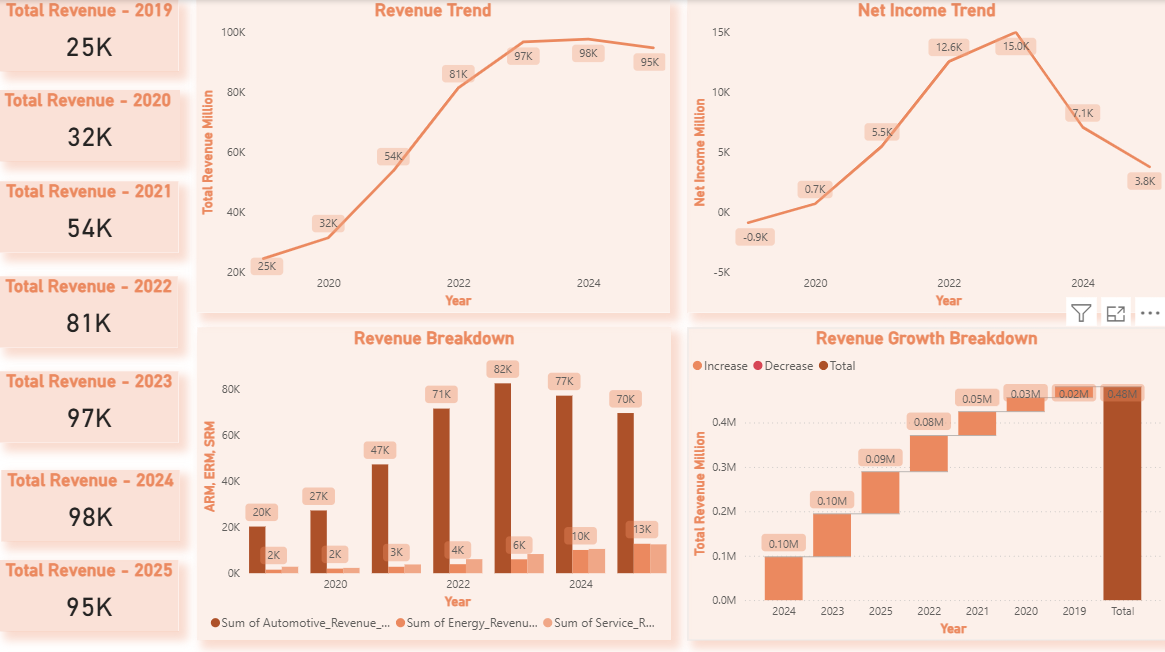

Layout of this report page (visuals, bound fields, positions):
{"tool":"powerbi","page":{"name":"Page 9","canvas":[1280,720],"ordinal":0},"visuals":[{"type":"card","title":"Total Revenue - 2025","fields":{"Values":["Sum(tesla_yearly_data.Total_Revenue_Million)"]},"box":[0,614.8,196.2,78.2],"z":0},{"type":"card","title":"Total Revenue - 2019","fields":{"Values":["Sum(tesla_yearly_data.Total_Revenue_Million)"]},"box":[0,0,196.2,78.2],"z":1000},{"type":"card","title":"Total Revenue - 2020","fields":{"Values":["Sum(tesla_yearly_data.Total_Revenue_Million)"]},"box":[0,98.8,196.2,78.2],"z":2000},{"type":"card","title":"Total Revenue - 2021","fields":{"Values":["Sum(tesla_yearly_data.Total_Revenue_Million)"]},"box":[0,199,196.2,78.2],"z":3000},{"type":"card","title":"Total Revenue - 2022","fields":{"Values":["Sum(tesla_yearly_data.Total_Revenue_Million)"]},"box":[0,303.3,194.9,78.2],"z":4000},{"type":"card","title":"Total Revenue - 2023","fields":{"Values":["Sum(tesla_yearly_data.Total_Revenue_Million)"]},"box":[0,407.5,196.2,78.2],"z":5000},{"type":"card","title":"Total Revenue - 2024","fields":{"Values":["Sum(tesla_yearly_data.Total_Revenue_Million)"]},"box":[1.4,516,196.2,78.2],"z":6000},{"type":"lineChart","title":"Revenue Trend","fields":{"Category":["tesla_yearly_data.year"],"Y":["Sum(tesla_yearly_data.Total_Revenue_Million)"]},"box":[215.4,0,520.1,343.1],"z":7000},{"type":"lineChart","title":"Net Income Trend","fields":{"Category":["tesla_yearly_data.year"],"Y":["Sum(tesla_yearly_data.Net_Income_Million)"]},"box":[754.7,0,525.6,343.1],"z":8000},{"type":"clusteredColumnChart","title":"Revenue Breakdown","fields":{"Category":["tesla_yearly_data.year"],"Y":["Sum(tesla_yearly_data.Automotive_Revenue_Million)","Sum(tesla_yearly_data.Energy_Revenue_Million)","Sum(tesla_yearly_data.Service_Revenue_Million)"]},"box":[216.8,359.5,520.1,343.1],"z":9000},{"type":"waterfallChart","title":"Revenue Growth Breakdown","fields":{"Category":["tesla_yearly_data.year"],"Y":["Sum(tesla_yearly_data.Total_Revenue_Million)"]},"box":[754.7,359.5,525.6,343.1],"z":10000}]}

Visuals, with their boxes in screenshot pixels (x1, y1, x2, y2), scaled from the page's 1280x720 canvas onto the 1165x652 screenshot:
"Total Revenue - 2025" card: 0 557 179 628
"Total Revenue - 2019" card: 0 0 179 71
"Total Revenue - 2020" card: 0 89 179 160
"Total Revenue - 2021" card: 0 180 179 251
"Total Revenue - 2022" card: 0 275 177 345
"Total Revenue - 2023" card: 0 369 179 440
"Total Revenue - 2024" card: 1 467 180 538
"Revenue Trend" lineChart: 196 0 669 311
"Net Income Trend" lineChart: 687 0 1164 311
"Revenue Breakdown" clusteredColumnChart: 197 326 671 636
"Revenue Growth Breakdown" waterfallChart: 687 326 1164 636
